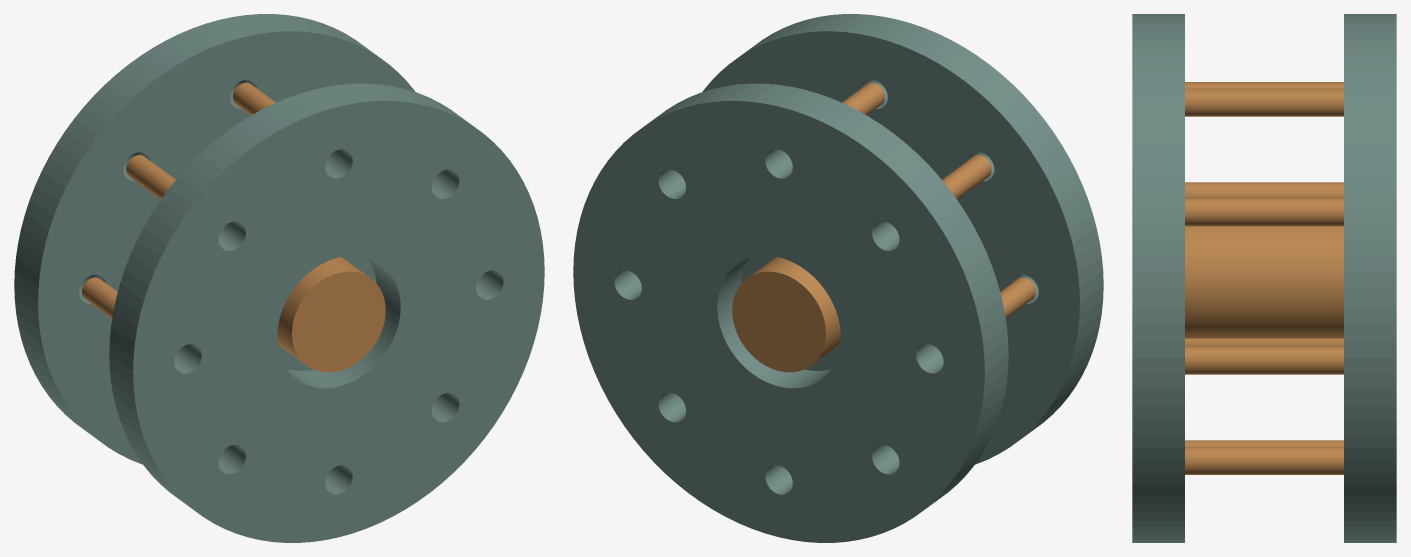
File: example-assembly.glb
3 views of the same model, side by side, from view 1: azimuth 30°, elevation 25°; view 2: azimuth 150°, elevation 25°; view 3: azimuth 270°, elevation 25° (orthographic). The views are drawn at different scales.
Size of the model in its own units: 0.12 by 0.12 by 0.06.
